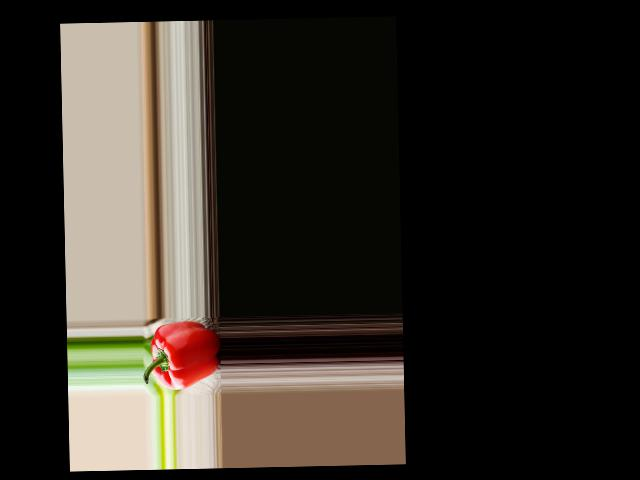bell_pepper: (144, 322, 222, 392)
